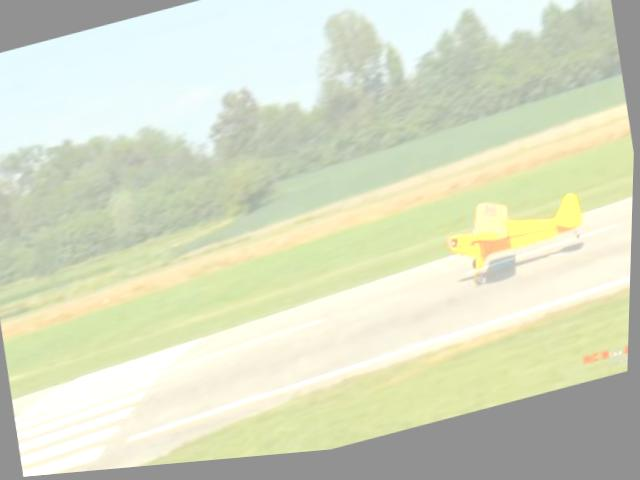uav: (439, 186, 594, 300)
